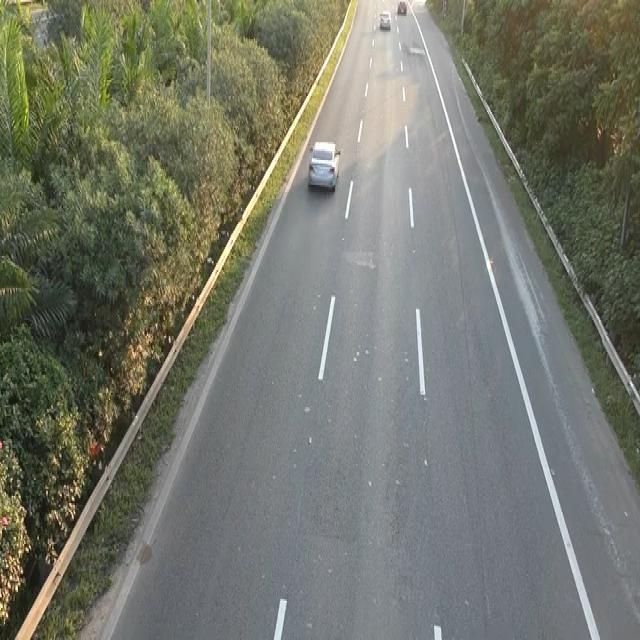bus: (306, 137, 341, 192), (396, 0, 407, 16)
